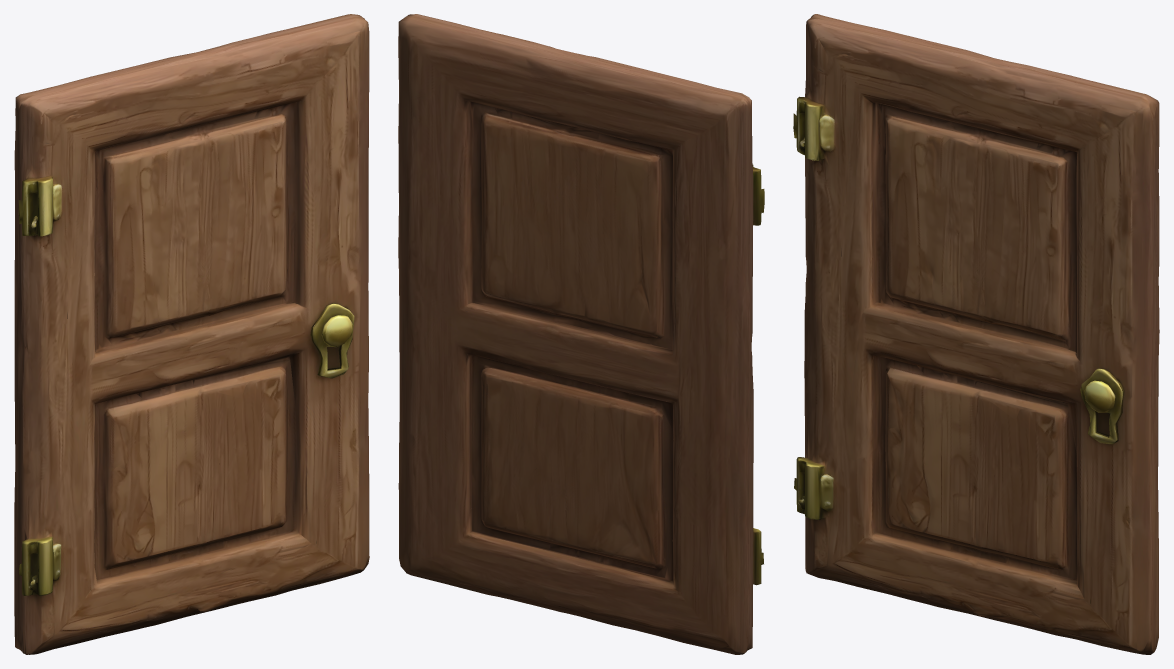
The model's file is door_panel.glb.
3 renders of one model, left to right at view 1: azimuth 30°, elevation 25°; view 2: azimuth 150°, elevation 25°; view 3: azimuth 330°, elevation 25°, orthographic.
Parts seen in each view (by area): view 1: tripo_node_282219d8-d558-4d1a-8beb-9ad5e8544656; view 2: tripo_node_282219d8-d558-4d1a-8beb-9ad5e8544656; view 3: tripo_node_282219d8-d558-4d1a-8beb-9ad5e8544656.
Part boxes in pixels (x1,y1,x2,y2): tripo_node_282219d8-d558-4d1a-8beb-9ad5e8544656: (14, 14, 369, 654); tripo_node_282219d8-d558-4d1a-8beb-9ad5e8544656: (398, 14, 764, 654); tripo_node_282219d8-d558-4d1a-8beb-9ad5e8544656: (793, 14, 1159, 654).
Bounding box in the file's own units: 0.3659 × 0.55 × 0.045.
1 material, 1 textured.
